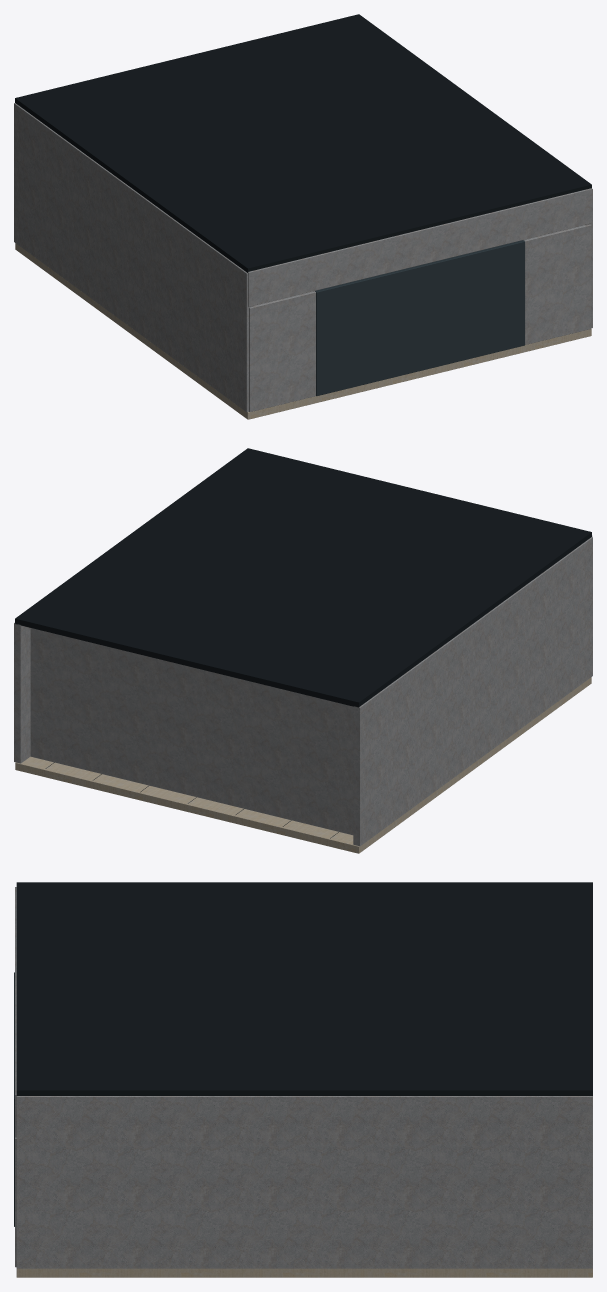
File: night-city-garage.glb
The picture shows the model from 3 angles, top to bottom: view 1: azimuth 30°, elevation 25°; view 2: azimuth 150°, elevation 25°; view 3: azimuth 270°, elevation 25°; orthographic projection. The views are drawn at different scales.
Visible parts, largest first — view 1: Room_recess_black.002, Room_aged_concrete.002, Room_gunmetal.002, Room_damp_concrete.002; view 2: Room_recess_black.002, Room_aged_concrete.002, Room_damp_concrete.002; view 3: Room_recess_black.002, Room_aged_concrete.002, Room_damp_concrete.002.
Part boxes in pixels (bbox=[...]): Room_recess_black.002: bbox=[15, 14, 591, 272]; Room_aged_concrete.002: bbox=[14, 103, 592, 412]; Room_gunmetal.002: bbox=[315, 240, 524, 396]; Room_damp_concrete.002: bbox=[15, 243, 591, 419]; Room_recess_black.002: bbox=[15, 448, 591, 838]; Room_aged_concrete.002: bbox=[14, 535, 592, 846]; Room_damp_concrete.002: bbox=[15, 677, 591, 853]; Room_recess_black.002: bbox=[16, 882, 592, 1095]; Room_aged_concrete.002: bbox=[15, 887, 592, 1268]; Room_damp_concrete.002: bbox=[16, 1268, 592, 1277].
Size of the model in its own units: 14.6 by 6.1 by 17.07.
Materials: 23 (5 with a texture image).
